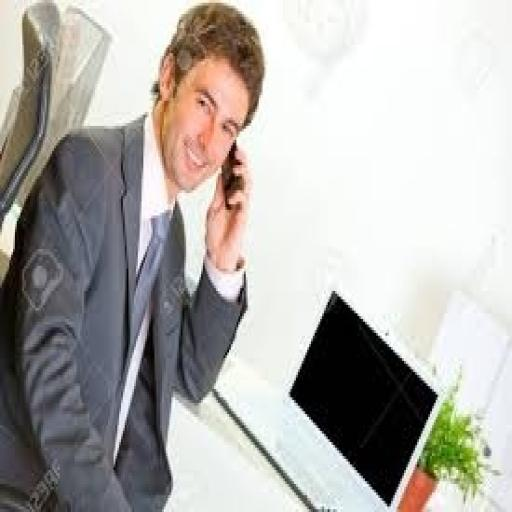calling: (0, 0, 266, 509)
